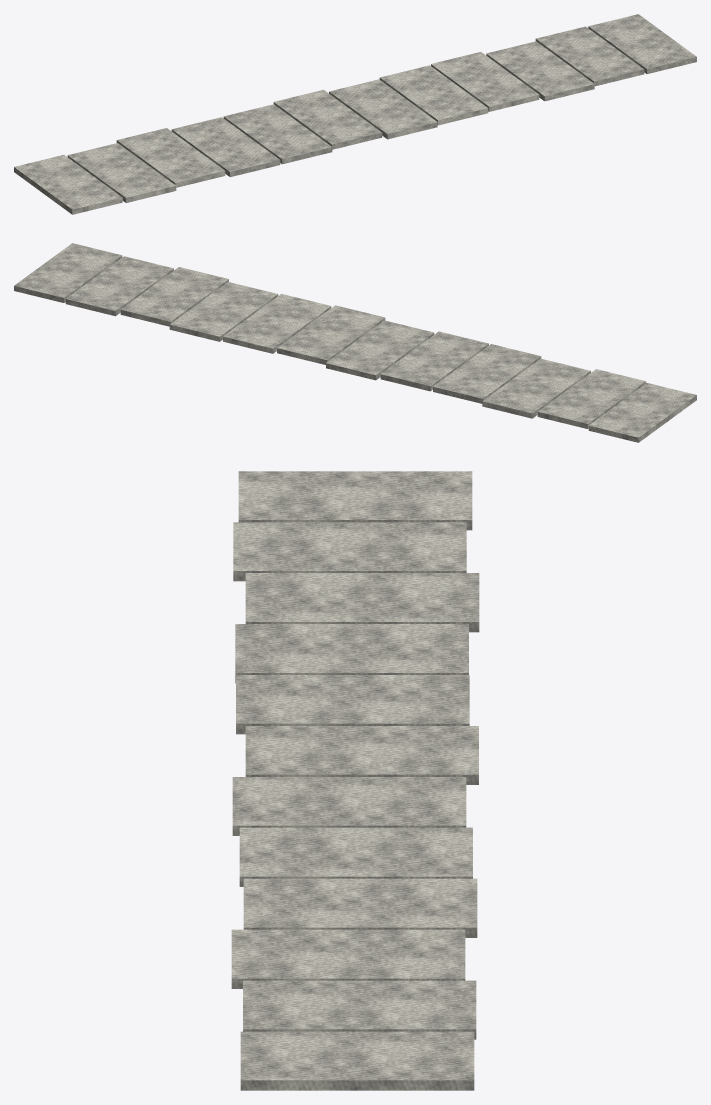
Rendered from shrine-stone-path.obj.
3 renders of one model, top to bottom at view 1: azimuth 30°, elevation 25°; view 2: azimuth 150°, elevation 25°; view 3: azimuth 270°, elevation 25°, orthographic. The views are drawn at different scales.
Bounding box in the file's own units: 11.48 × 0.091 × 1.97.
3 materials, 3 textured.
